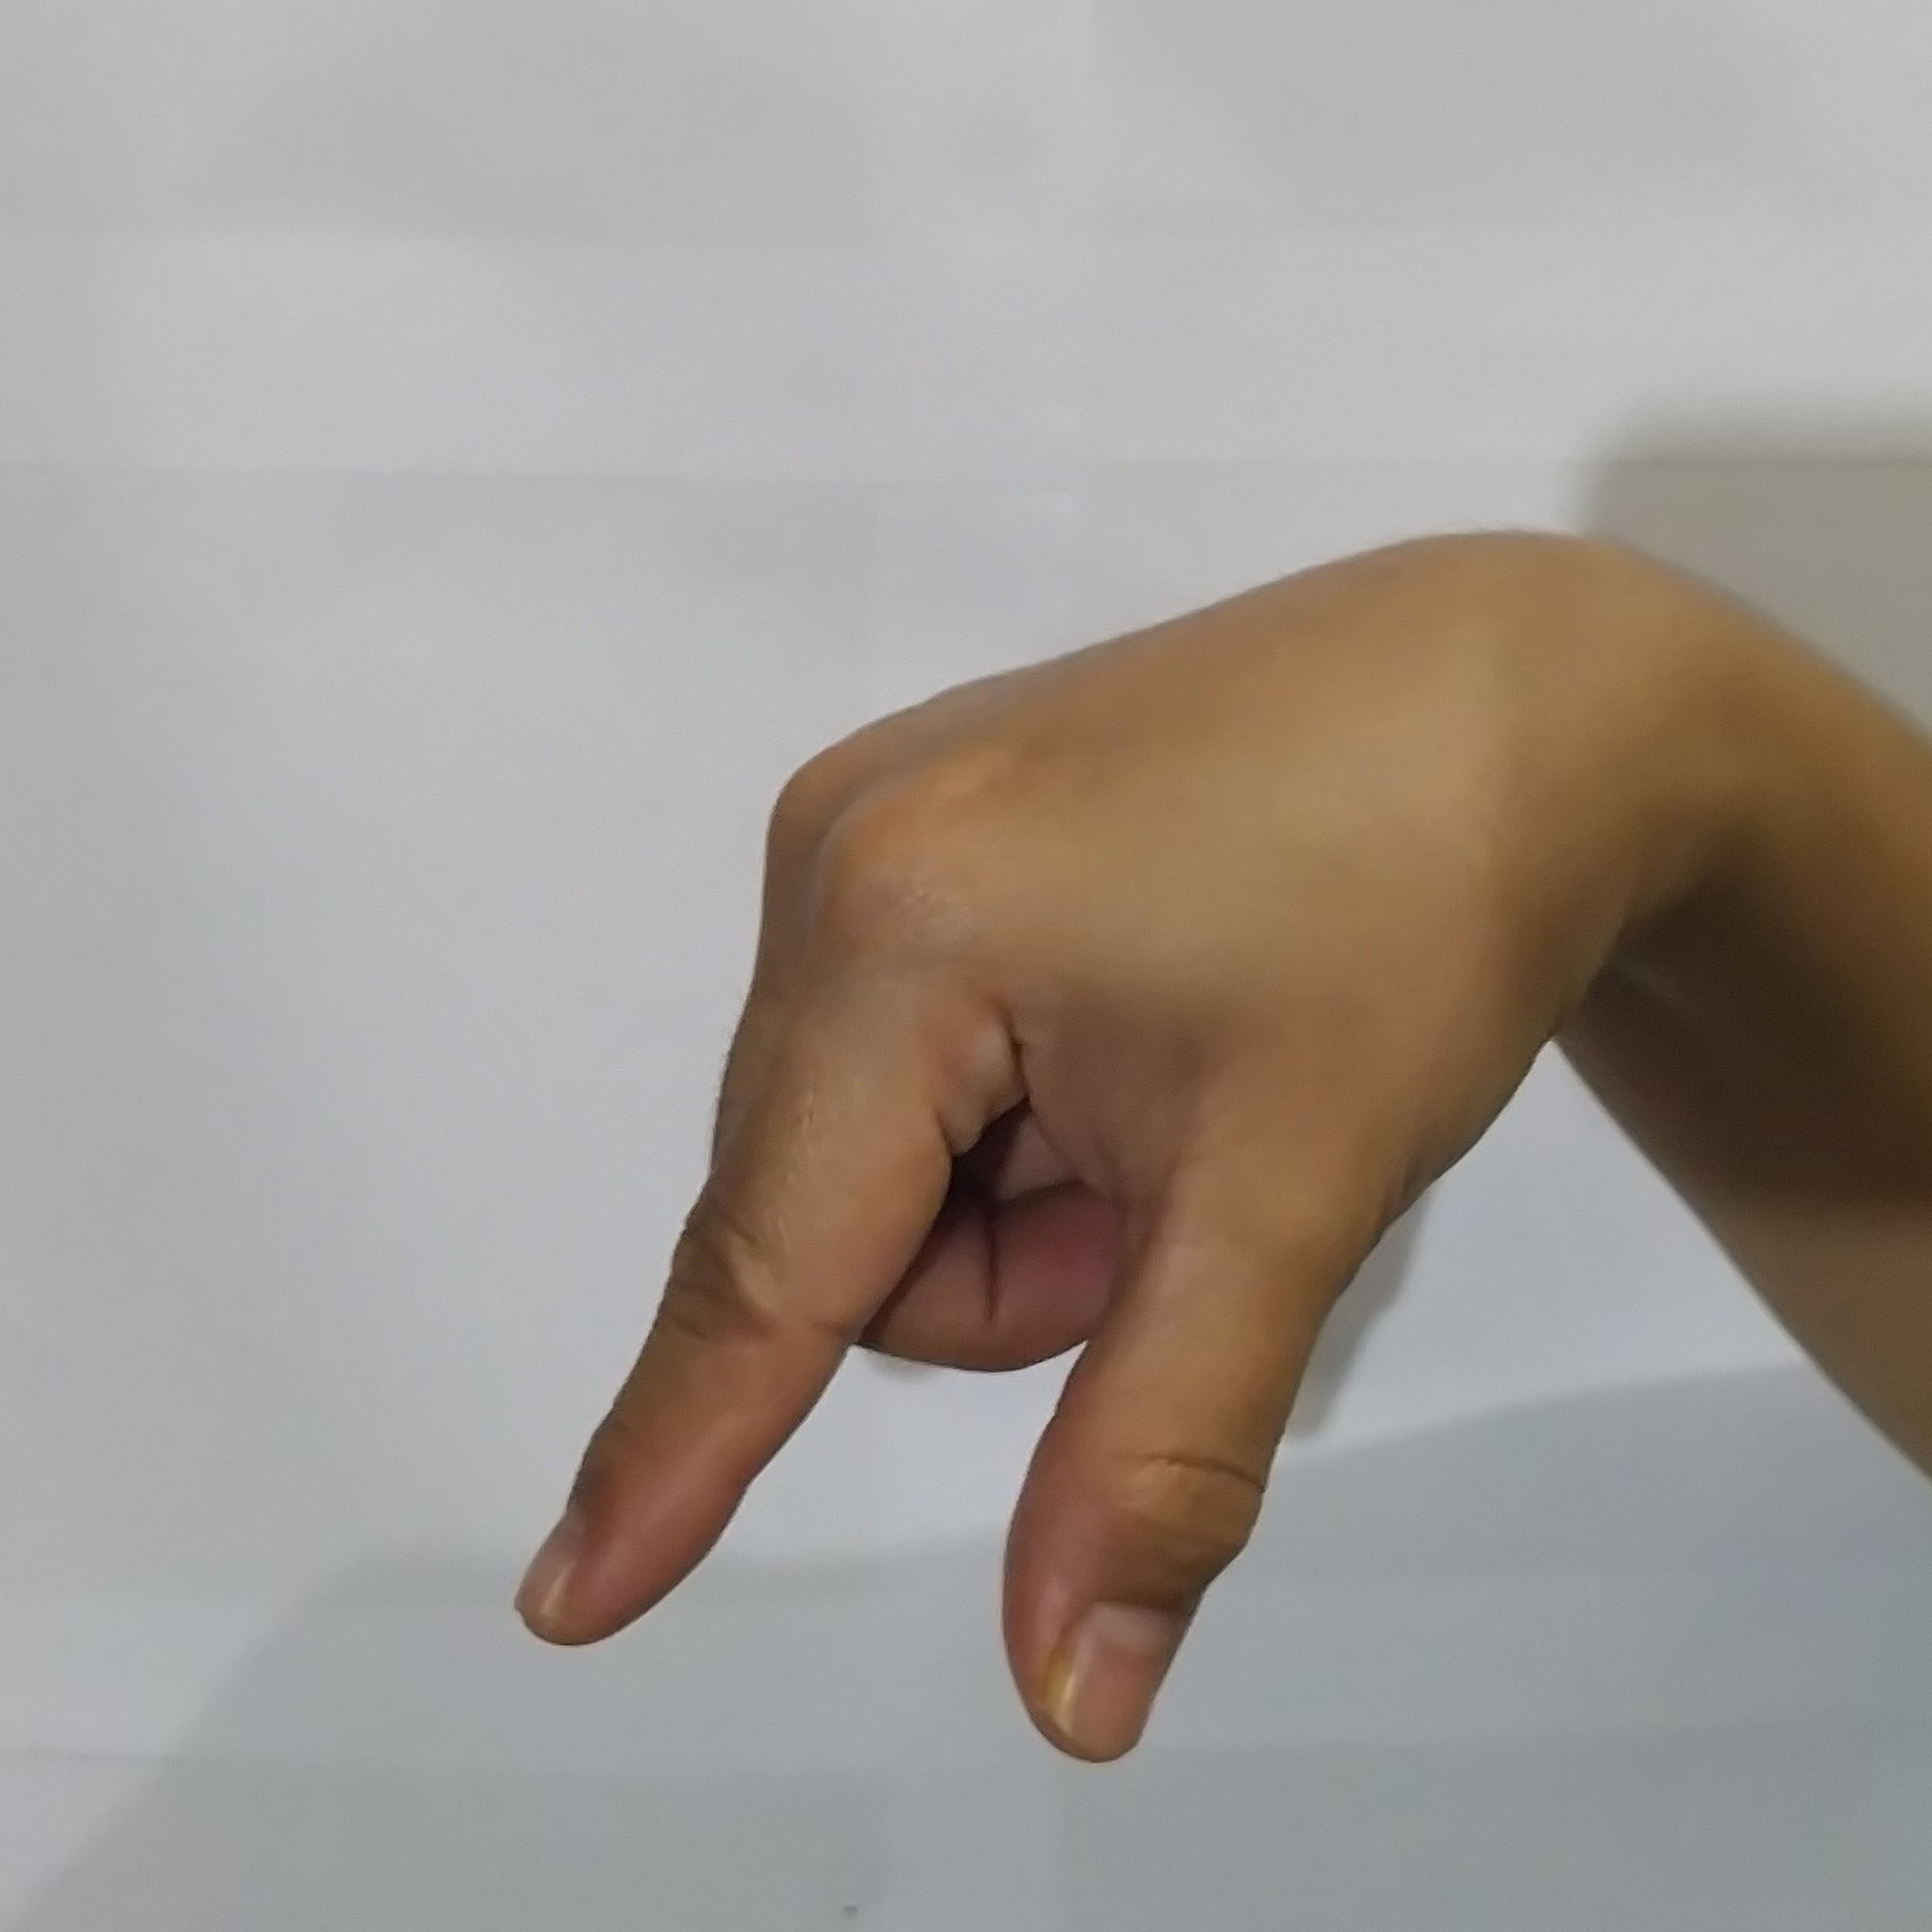Q: (479, 529, 1640, 1783)
